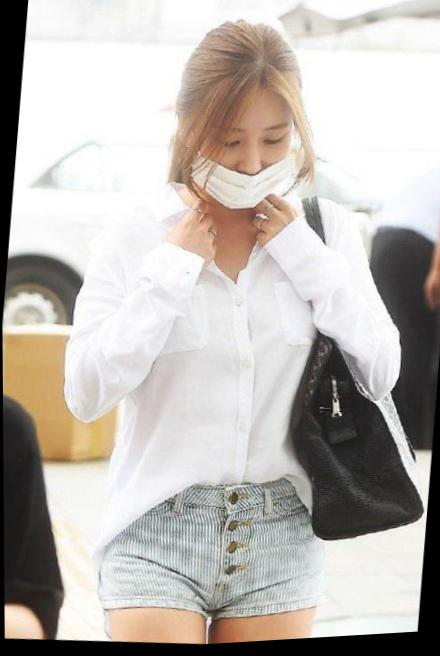WRONG: (185, 112, 290, 220)
